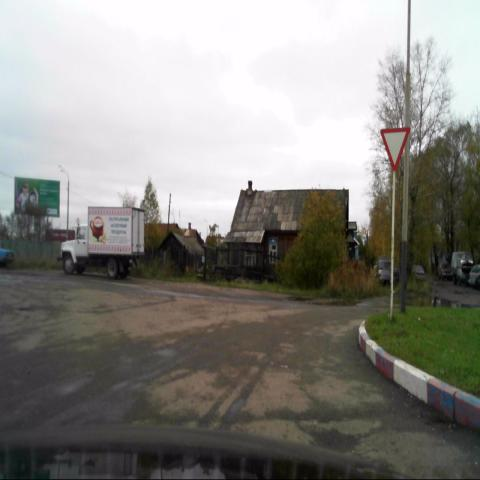2_4: (379, 126, 410, 171)
